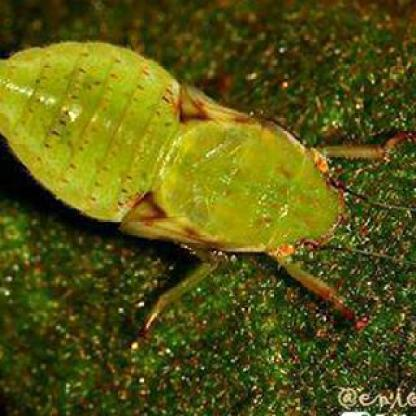green-leafhopper: (0, 40, 408, 335)
